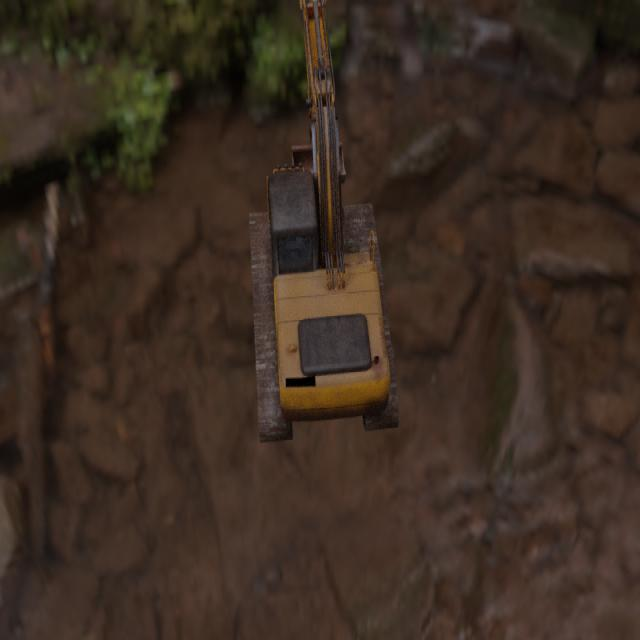excavator: (248, 0, 399, 444)
